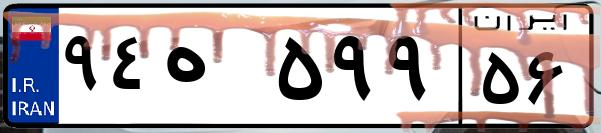4: (110, 28, 158, 98)
5: (270, 28, 330, 110), (475, 38, 525, 113)
6: (525, 38, 570, 115)
9: (385, 28, 445, 110), (330, 28, 385, 110), (57, 26, 110, 100)
ه: (158, 20, 270, 120)
